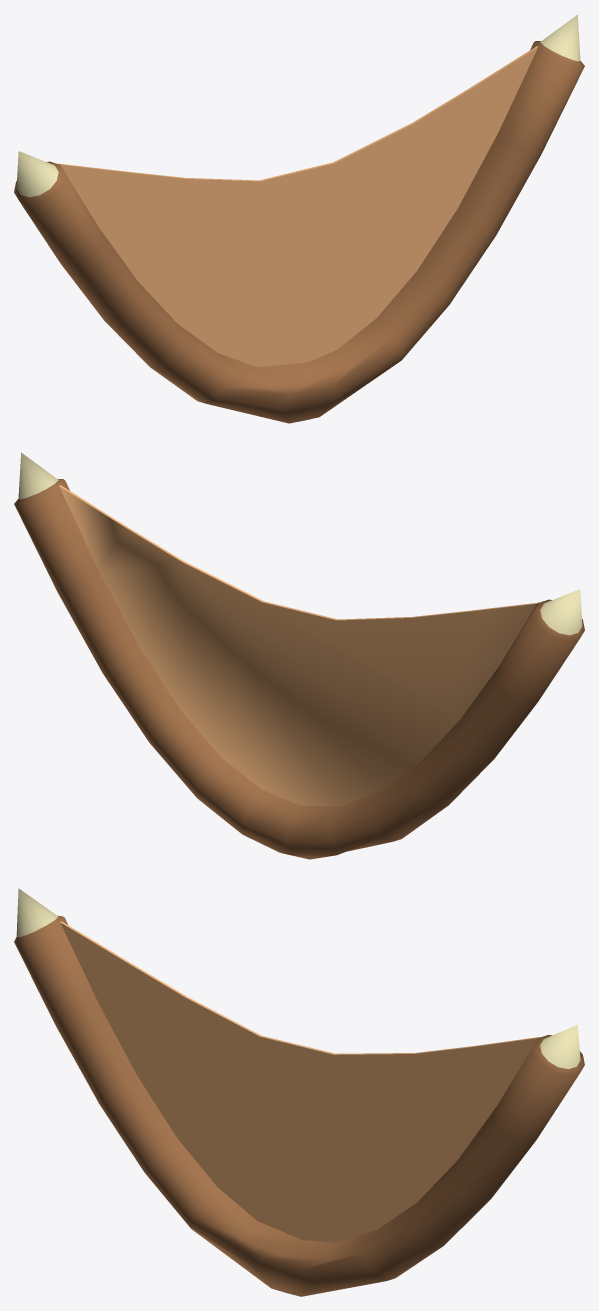
File: Web Foot.fbx
3 renders of one model, top to bottom at view 1: azimuth 30°, elevation 25°; view 2: azimuth 150°, elevation 25°; view 3: azimuth 330°, elevation 25°, orthographic.
Visible parts, largest first — view 1: Web Foot - shariar01 (SuperDing); view 2: Web Foot - shariar01 (SuperDing); view 3: Web Foot - shariar01 (SuperDing).
Boxes of the visible parts, bbox=[...] form: Web Foot - shariar01 (SuperDing): bbox=[14, 14, 584, 423]; Web Foot - shariar01 (SuperDing): bbox=[14, 452, 584, 859]; Web Foot - shariar01 (SuperDing): bbox=[14, 888, 584, 1296].
Bounding box in the file's own units: 98.32 × 55.34 × 9.1.
